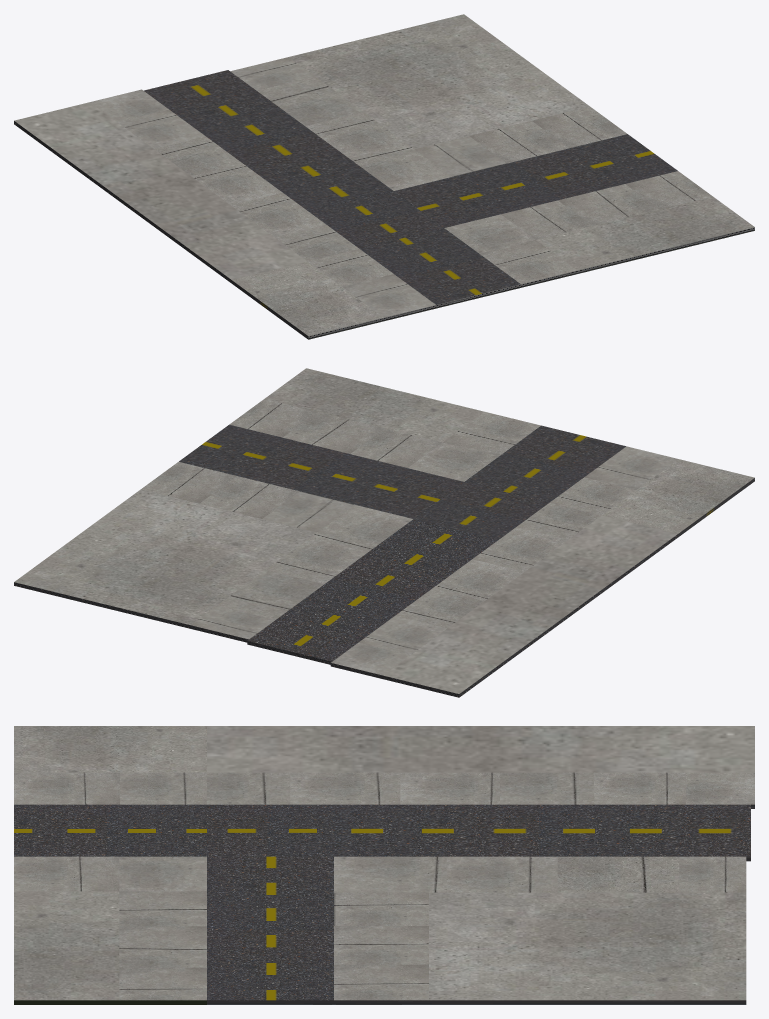
File: Floor.glb
The picture shows the model from 3 angles, top to bottom: view 1: azimuth 30°, elevation 25°; view 2: azimuth 150°, elevation 25°; view 3: azimuth 270°, elevation 25°; orthographic projection. The views are drawn at different scales.
Visible parts, largest first — view 1: Cube; view 2: Cube; view 3: Cube.
Boxes of the visible parts, x1,y1,x2,y2 form: Cube: (14,14,754,339); Cube: (14,368,754,697); Cube: (14,726,754,1004).
Size of the model in its own units: 43.3 by 0.3352 by 49.43.
1 material, 1 textured.
